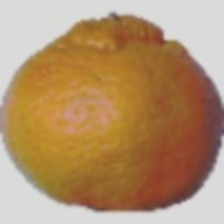tangerine: (29, 58, 164, 204)
